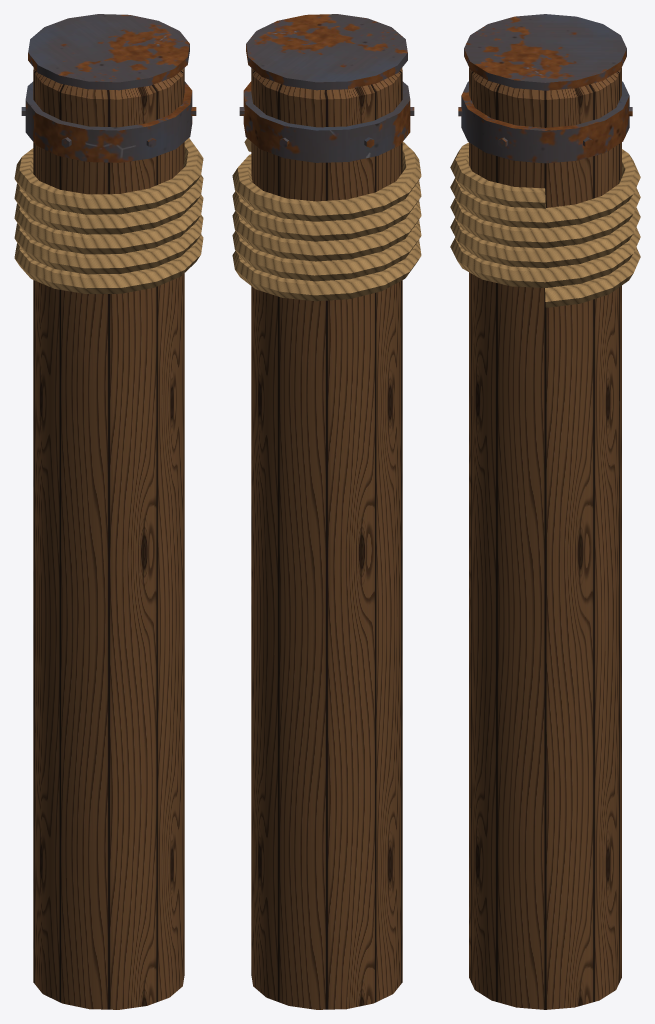
The model's file is Post_2m.glb.
3 renders of one model, left to right at view 1: azimuth 30°, elevation 25°; view 2: azimuth 150°, elevation 25°; view 3: azimuth 270°, elevation 25°, orthographic.
Visible parts, largest first — view 1: Post_2m; view 2: Post_2m; view 3: Post_2m.
Part boxes in pixels (x1,y1,x2,y2): Post_2m: [14, 14, 203, 1009]; Post_2m: [232, 14, 421, 1009]; Post_2m: [450, 14, 640, 1009].
Bounding box in the file's own units: 0.374 × 2.01 × 0.374.
3 materials, 3 textured.
